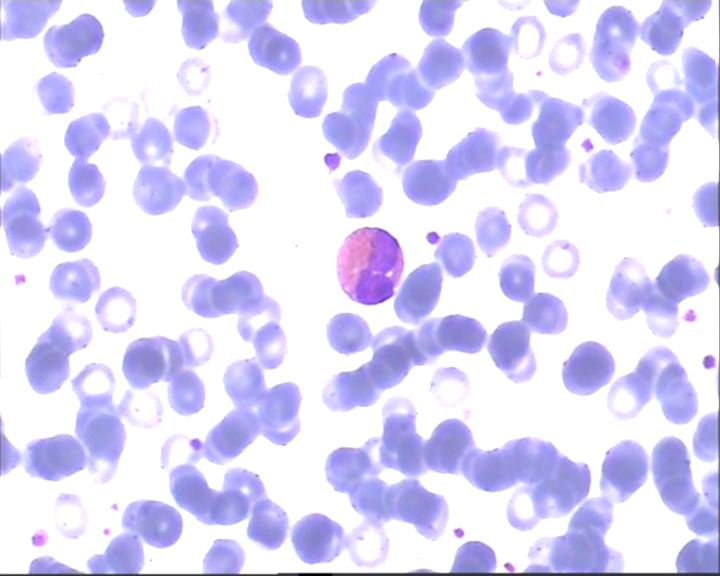eosi: (332, 225, 407, 309)
